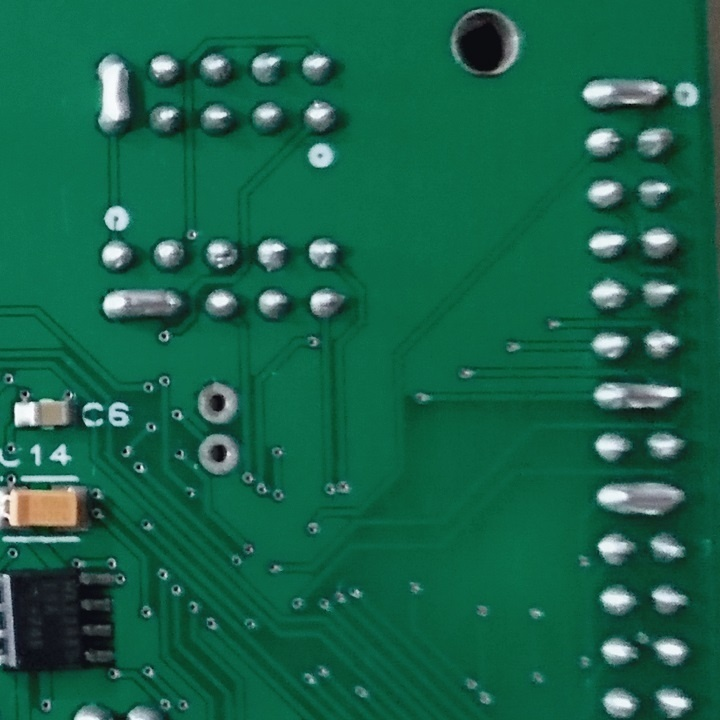F: (192, 380, 241, 426), (198, 432, 240, 478)
P: (587, 475, 689, 520), (589, 376, 688, 415), (94, 49, 135, 140), (578, 73, 673, 111), (96, 285, 185, 321)
